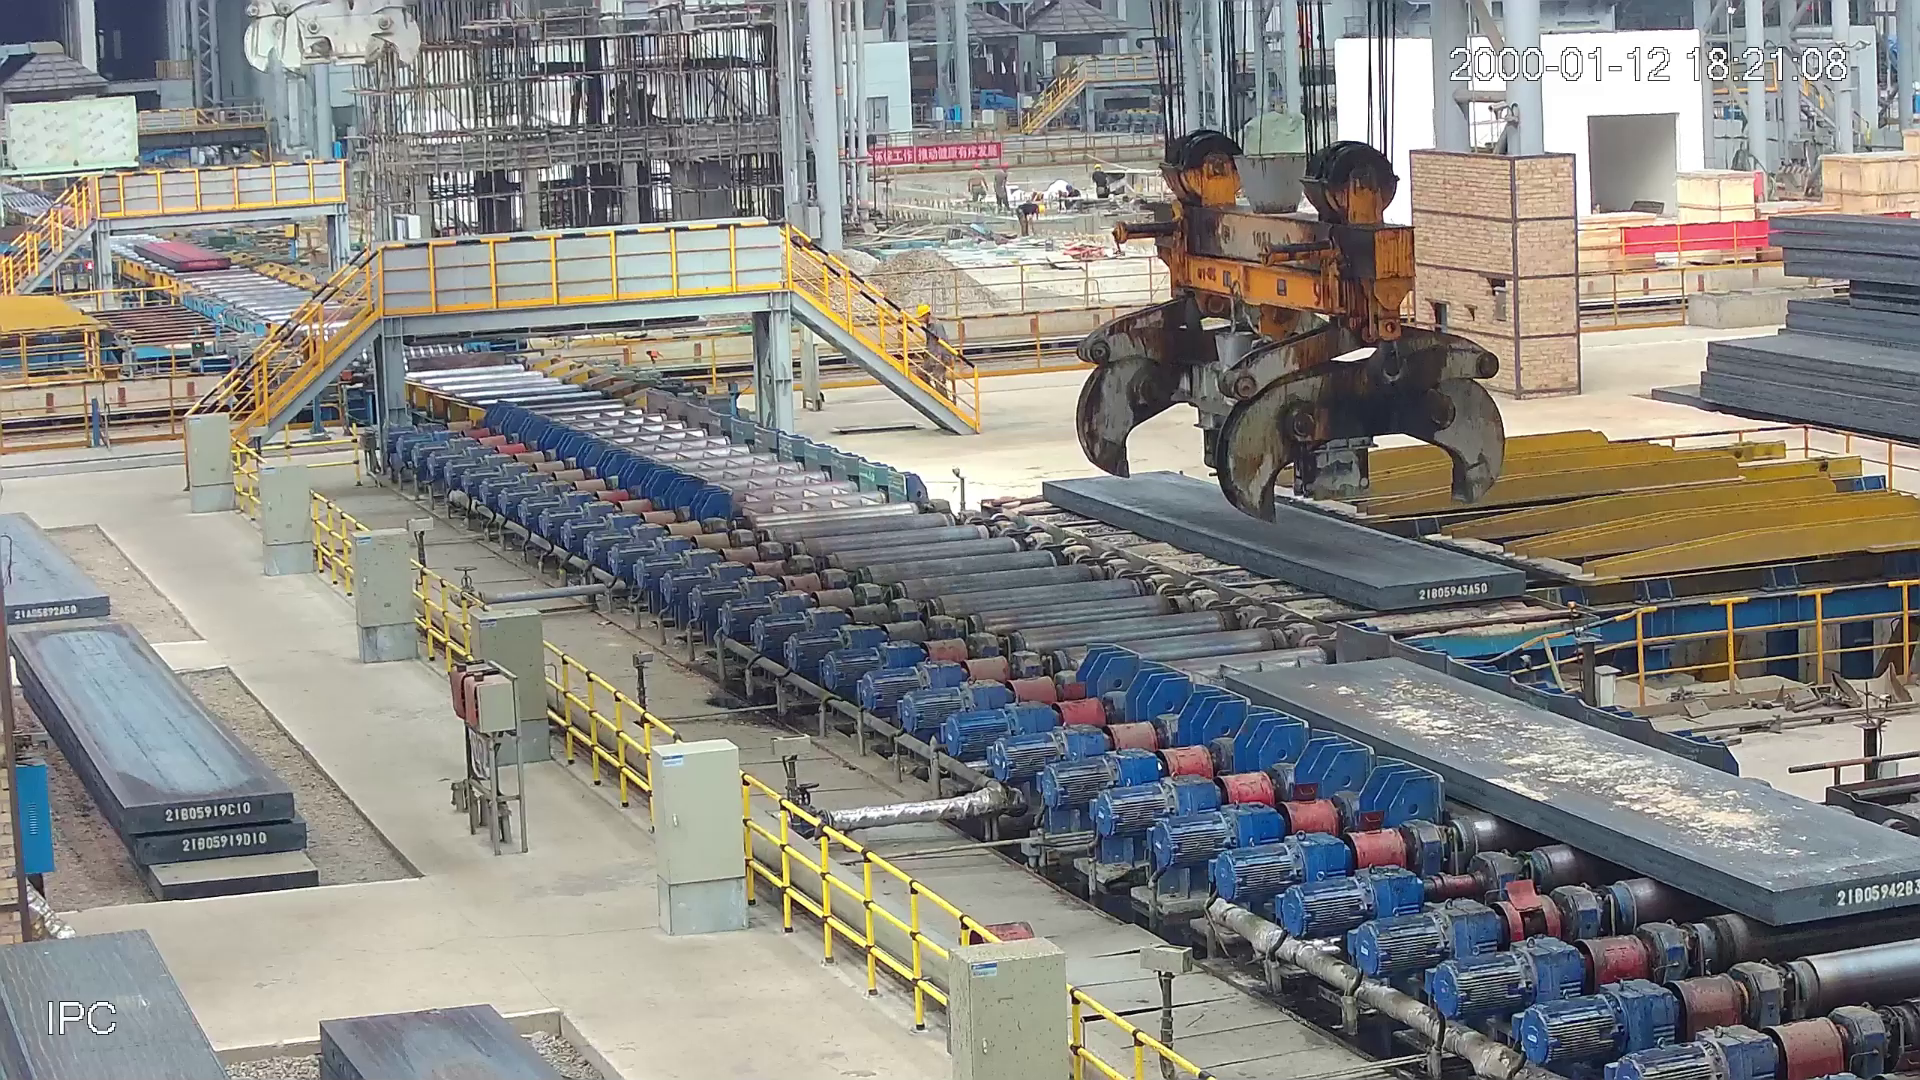crane: (1072, 107, 1501, 526)
slab: (1221, 649, 1920, 928), (1029, 459, 1528, 616), (127, 236, 235, 276)
